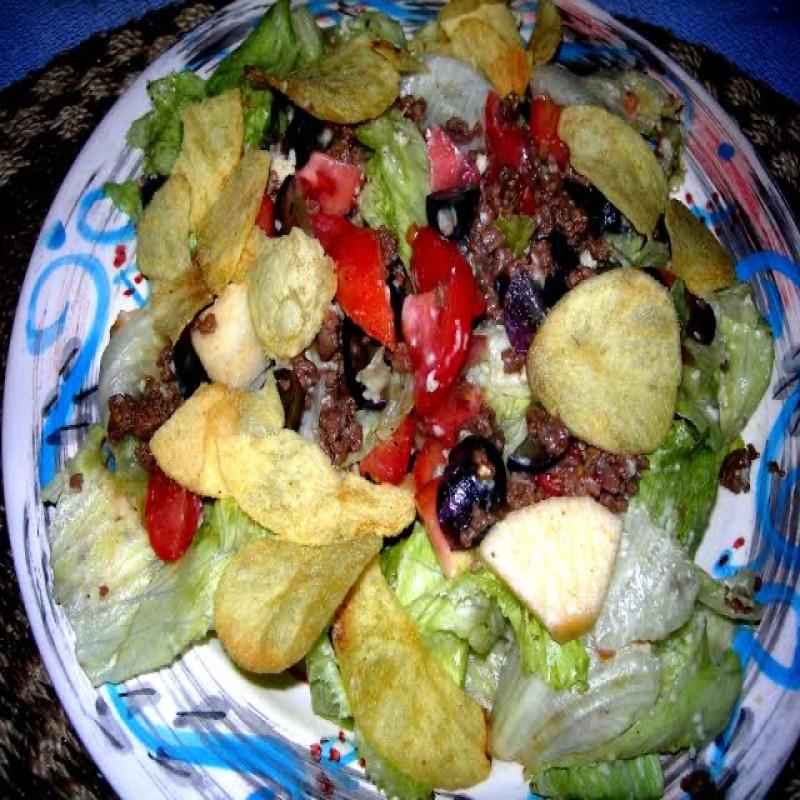left-over food: (51, 0, 776, 800)
